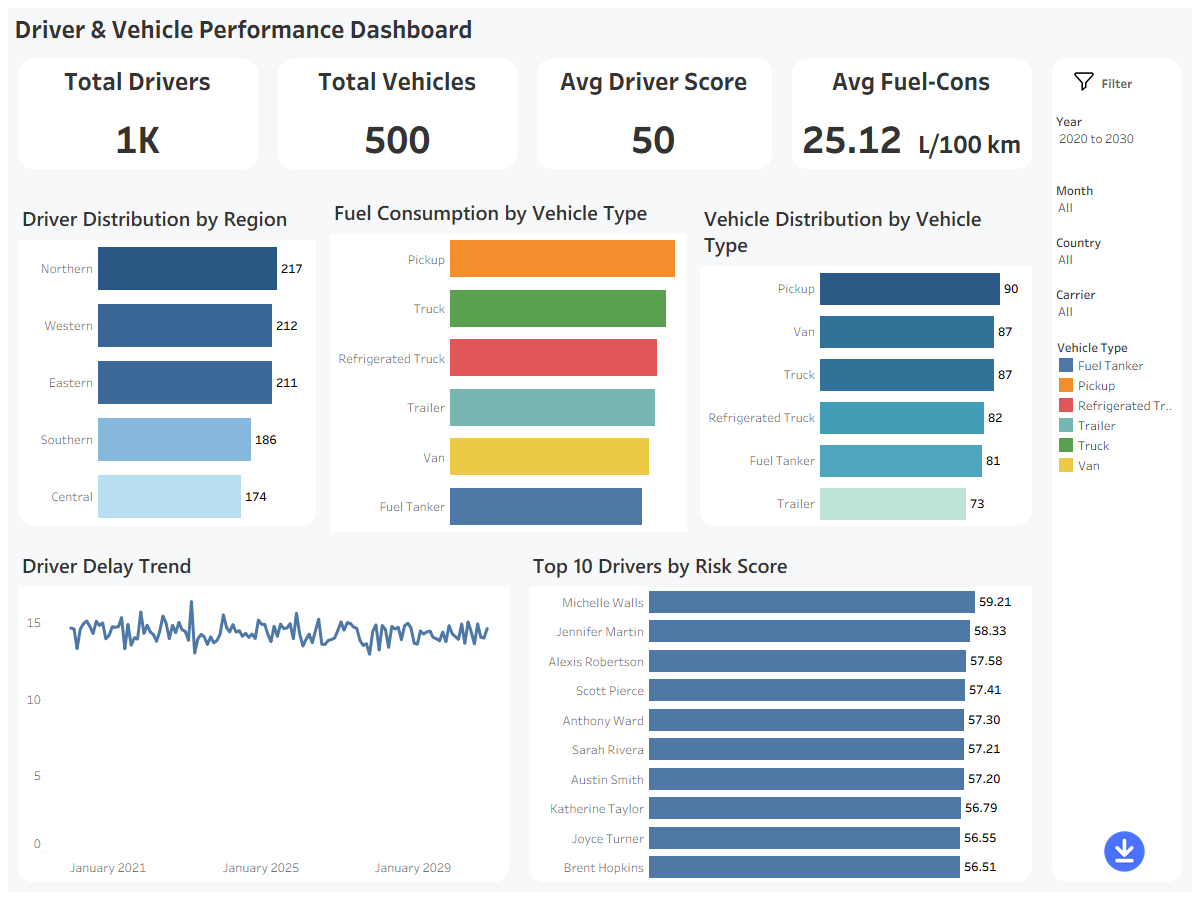

This screenshot's page, from the dashboard's own definition file:
{"tool":"tableau","page":{"name":"Driver & Vehicle Performance Dashboard","canvas":[1200,900],"ordinal":1},"visuals":[{"type":"title","box":[8,8,1184,41]},{"type":"worksheet","title":"KPI - Total Drivers","mark":"Automatic","box":[8,49,259.7,130]},{"type":"worksheet","title":"KPI - Total Vehicles","mark":"Automatic","box":[267.7,49,259.7,130]},{"type":"worksheet","title":"KPI - Avg Driver Score","mark":"Automatic","box":[527.3,49,255,130]},{"type":"worksheet","title":"KPI - Average Fuel Consumption","mark":"Automatic","box":[782.3,49,259.7,130]},{"type":"text","box":[1052,59,130,49]},{"type":"image","param":"Image/filter.png","box":[1072,68,23,25]},{"type":"filter","title":"Vehicle Distribution by Vehicle Type","param":"[federated.0jvln5y0i2vktg16s0ugy1m90pce].[none:year_number:qk]","box":[1052,108,130,69]},{"type":"filter","title":"Vehicle Distribution by Vehicle Type","param":"[federated.0jvln5y0i2vktg16s0ugy1m90pce].[none:month_name:nk]","box":[1052,177,130,52]},{"type":"worksheet","title":"Driver Distribution by Region","mark":"Automatic","rows":["assigned_region"],"cols":["driver_key"],"box":[8,188.2,318,347]},{"type":"worksheet","title":"Fuel Consumption by Vehicle Type","mark":"Automatic","rows":["vehicle_type"],"cols":["average_fuel_consumption"],"box":[326,188.2,364,347]},{"type":"worksheet","title":"Vehicle Distribution by Vehicle Type","mark":"Bar","rows":["vehicle_type"],"cols":["vehicle_key (dim_vehicles)"],"box":[690,188.2,352,347]},{"type":"filter","title":"Vehicle Distribution by Vehicle Type","param":"[federated.0jvln5y0i2vktg16s0ugy1m90pce].[none:country:nk]","box":[1052,229,130,52]},{"type":"filter","title":"Vehicle Distribution by Vehicle Type","param":"[federated.0jvln5y0i2vktg16s0ugy1m90pce].[none:carrier_name:nk]","box":[1052,281,130,52]},{"type":"legend","title":"Fuel Consumption by Vehicle Type","param":"[federated.0jvln5y0i2vktg16s0ugy1m90pce].[none:vehicle_type:nk]","box":[1052,333,130,146]},{"type":"worksheet","title":"Driver Delay Trend","mark":"Automatic","rows":["delay_hours"],"cols":["full_date"],"box":[8,535.2,511,356.7]},{"type":"worksheet","title":"Top 10 Drivers by Risk Score","mark":"Automatic","rows":["driver_name"],"cols":["risk_score"],"box":[519,535.2,523,356.7]},{"type":"dashboard-object","box":[1101,829,46,44]}]}

Visuals, with their boxes in screenshot pixels (x1, y1, x2, y2), scaled from the page's 1200x900 canvas onto the 1200x900 screenshot:
title: <box>8,8,1192,49</box>
"KPI - Total Drivers" worksheet: <box>8,49,268,179</box>
"KPI - Total Vehicles" worksheet: <box>268,49,527,179</box>
"KPI - Avg Driver Score" worksheet: <box>527,49,782,179</box>
"KPI - Average Fuel Consumption" worksheet: <box>782,49,1042,179</box>
text: <box>1052,59,1182,108</box>
image: <box>1072,68,1095,93</box>
"Vehicle Distribution by Vehicle Type" filter: <box>1052,108,1182,177</box>
"Vehicle Distribution by Vehicle Type" filter: <box>1052,177,1182,229</box>
"Driver Distribution by Region" worksheet: <box>8,188,326,535</box>
"Fuel Consumption by Vehicle Type" worksheet: <box>326,188,690,535</box>
"Vehicle Distribution by Vehicle Type" worksheet (Bar marks): <box>690,188,1042,535</box>
"Vehicle Distribution by Vehicle Type" filter: <box>1052,229,1182,281</box>
"Vehicle Distribution by Vehicle Type" filter: <box>1052,281,1182,333</box>
"Fuel Consumption by Vehicle Type" legend: <box>1052,333,1182,479</box>
"Driver Delay Trend" worksheet: <box>8,535,519,892</box>
"Top 10 Drivers by Risk Score" worksheet: <box>519,535,1042,892</box>
dashboard-object: <box>1101,829,1147,873</box>
